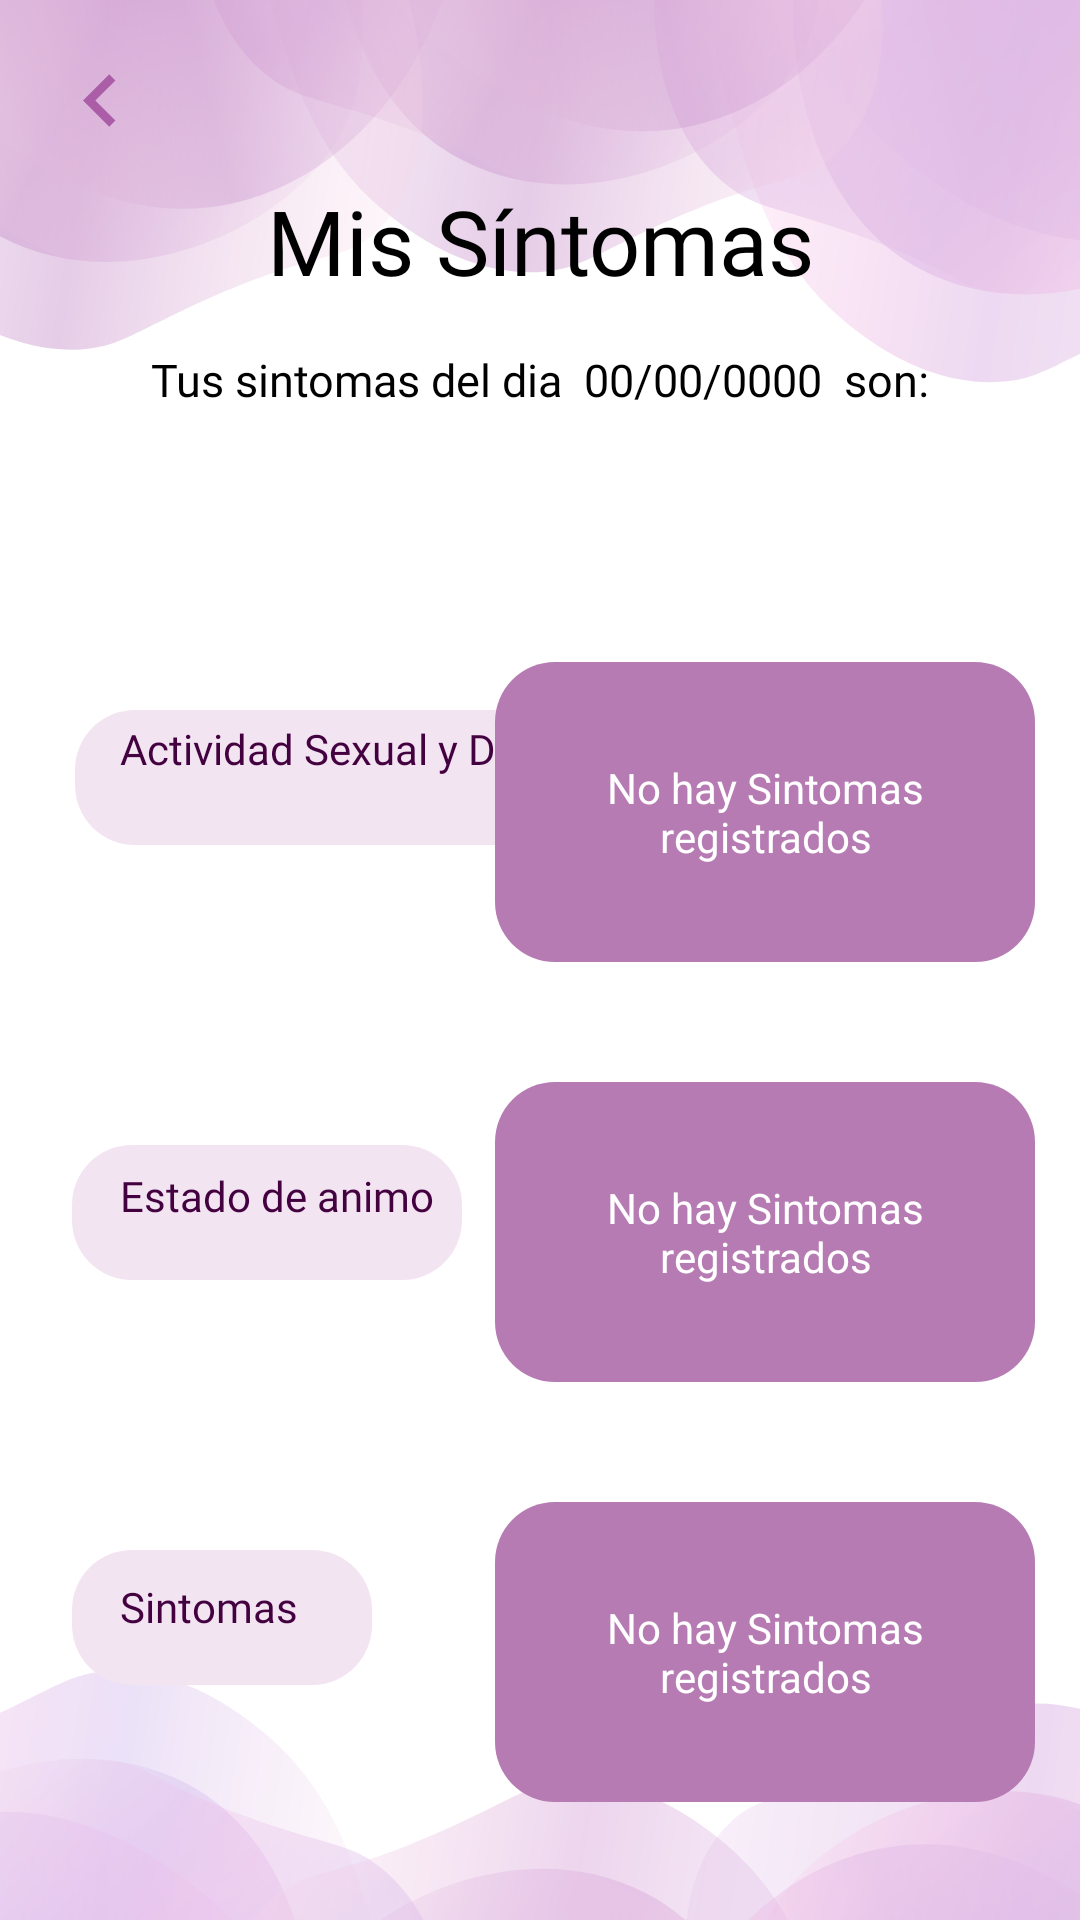

Point at icon controls on the screen. Image size 1080px x 1920px, points as (x=x, y=y).
chevron left: (x=99, y=100)
